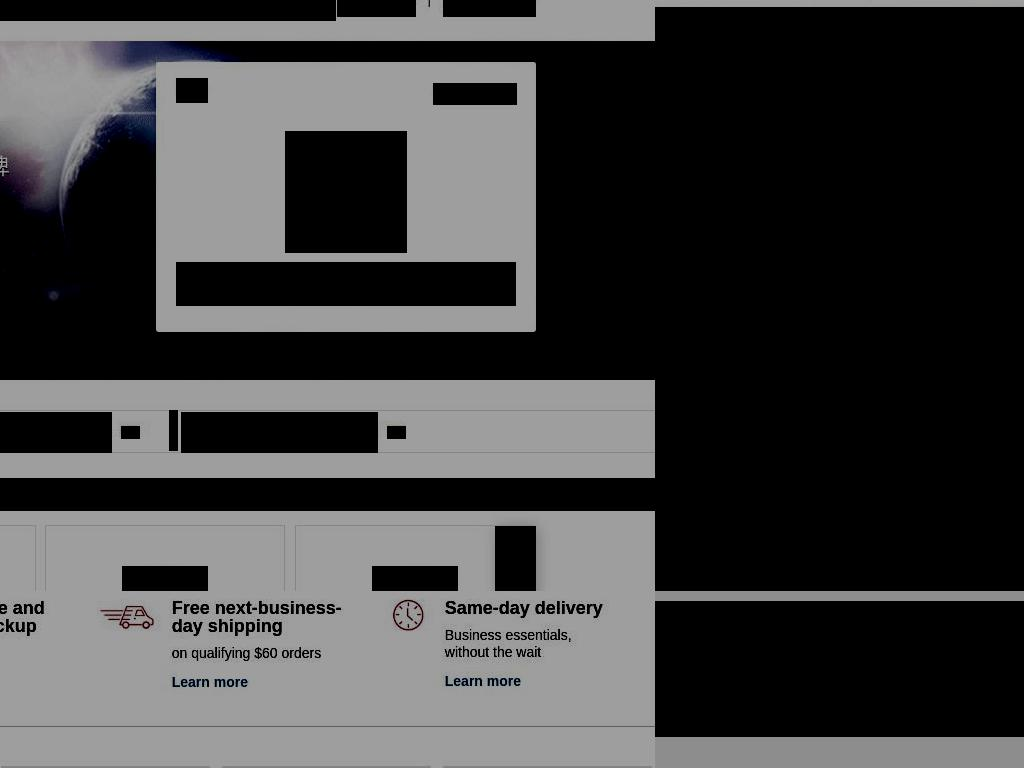button: (655, 632, 1024, 737), (181, 412, 378, 453), (0, 412, 112, 453), (728, 45, 801, 77), (444, 667, 522, 696), (171, 668, 248, 697), (433, 83, 517, 105), (337, 0, 416, 17), (655, 45, 696, 77), (1010, 38, 1024, 76)
heading: (655, 632, 1024, 737), (0, 478, 655, 511), (655, 317, 830, 432), (655, 259, 813, 380), (0, 0, 336, 21), (176, 78, 208, 103)
image: (655, 7, 1024, 591), (285, 131, 407, 253), (655, 601, 1024, 632), (100, 599, 154, 645), (373, 599, 427, 645), (122, 566, 208, 591), (372, 566, 458, 591), (121, 426, 140, 439), (387, 426, 406, 439)
text: (171, 599, 344, 645), (176, 262, 516, 284), (176, 284, 516, 306), (444, 627, 617, 667), (444, 599, 617, 627), (171, 645, 344, 668), (0, 599, 71, 645), (495, 526, 536, 591), (443, 0, 536, 17), (169, 410, 178, 451)
